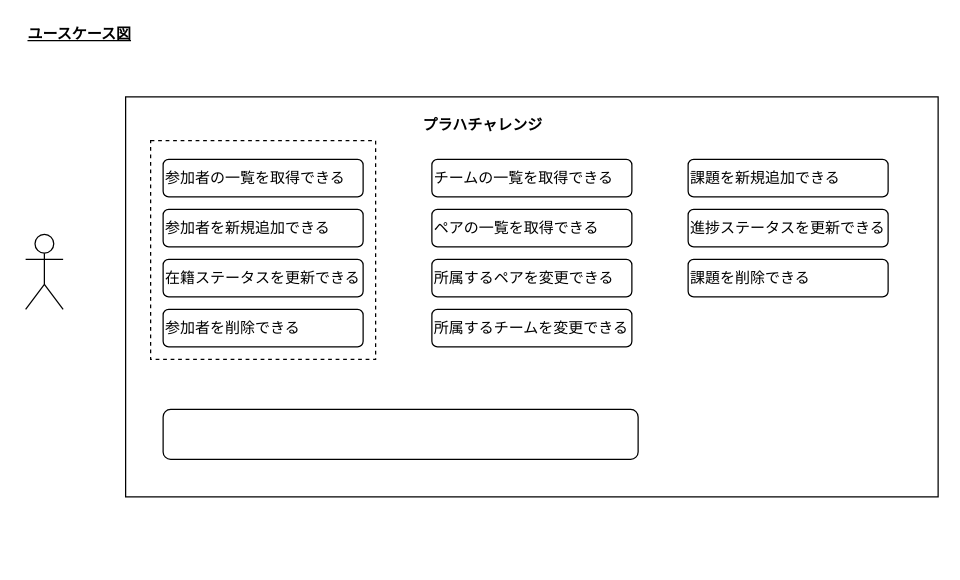
Some shapes in this 960 by 580 pixel diagram are drawn without their labels. The shapes that lost their labels are listed below. From the top down, each one's centre as x and y in pixels, then its label:
At (43,271): "参加者".
At (400,433): "特定の課題が特定の進捗ステータスになっている参加者の一覧を10人単位でページングして取得できる".
